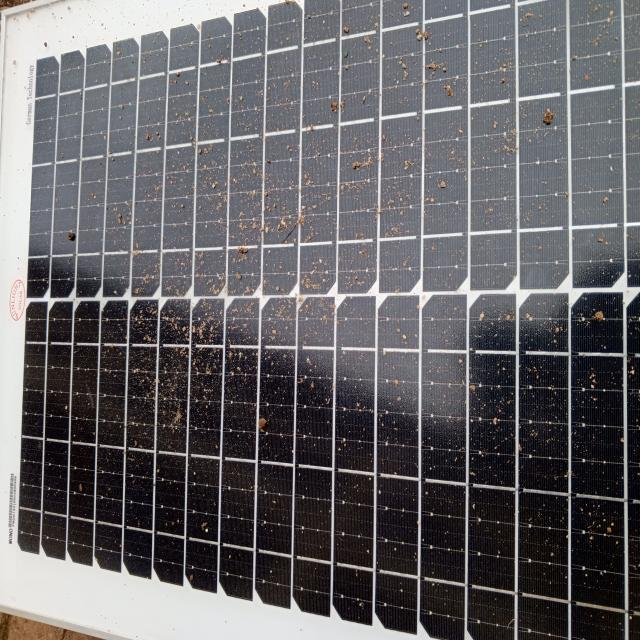Surface Contaminant: (262, 0, 636, 639)
